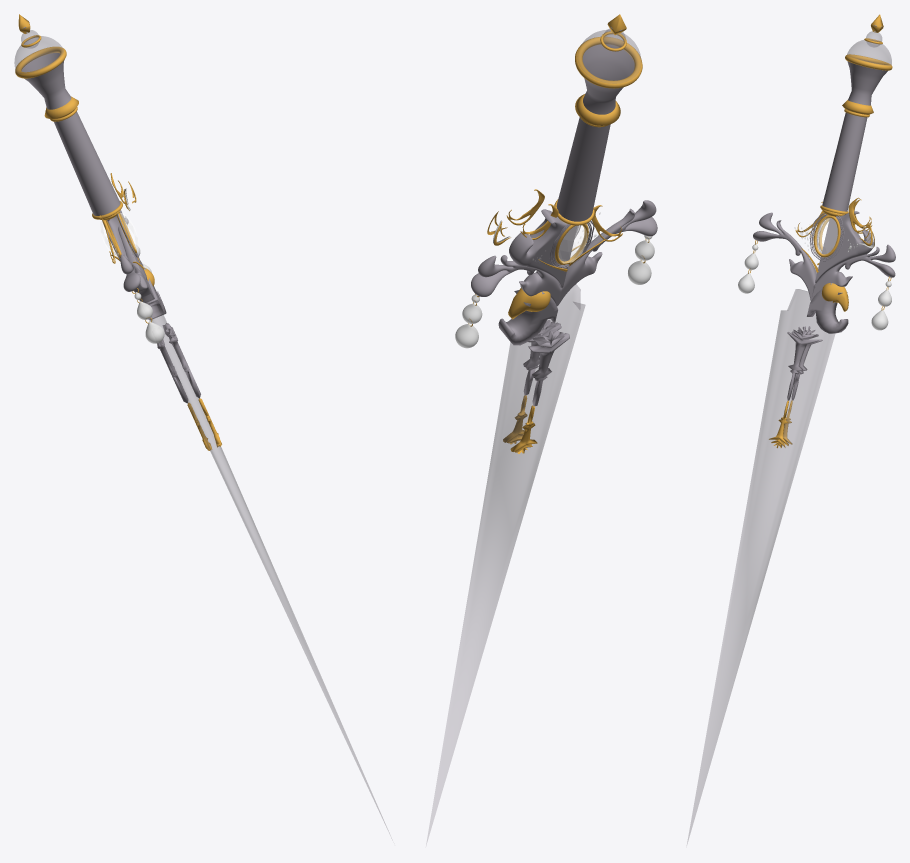
The model's file is sword.glb.
3 views of the same model, side by side, from view 1: azimuth 30°, elevation 25°; view 2: azimuth 150°, elevation 25°; view 3: azimuth 270°, elevation 25° (orthographic). The views are drawn at different scales.
Parts seen in each view (by area): view 1: Plane, Circle.001, Circle.003, Sphere.001, Plane.005, BézierCircle.010; view 2: Plane, Plane.005, Circle.001, Sphere.001, Plane.006, Circle.003, Plane.004, BézierCircle.010, Plane.014, Sphere.005, Sphere.003, Icosphere.001 (+5 smaller); view 3: Plane, Plane.005, Circle.001, Plane.006, Circle.003, Plane.004, Sphere.001, Plane.001, Icosphere, Sphere, Sphere.003, Sphere.005 (+1 smaller).
Boxes of the visible parts, box(x1,y1,x2,y2) form: Plane: box(142, 294, 391, 838); Circle.001: box(54, 111, 120, 215); Circle.003: box(21, 53, 71, 109); Sphere.001: box(14, 36, 63, 73); Plane.005: box(118, 218, 154, 302); BézierCircle.010: box(15, 46, 66, 78); Plane: box(426, 284, 585, 845); Plane.005: box(471, 200, 657, 306); Circle.001: box(556, 117, 610, 221); Sphere.001: box(577, 30, 641, 83); Plane.006: box(509, 209, 577, 287); Circle.003: box(582, 44, 634, 114); Plane.004: box(498, 290, 557, 345); BézierCircle.010: box(575, 37, 642, 88); Plane.014: box(528, 330, 569, 406); Sphere.005: box(455, 294, 482, 348); Sphere.003: box(628, 235, 654, 284); Icosphere.001: box(558, 225, 586, 263); Plane: box(687, 289, 835, 843); Plane.005: box(753, 212, 895, 300); Circle.001: box(822, 112, 867, 211); Plane.006: box(815, 211, 873, 282); Circle.003: box(847, 61, 887, 105); Plane.004: box(807, 283, 848, 333); Sphere.001: box(847, 39, 891, 65); Plane.001: box(787, 326, 818, 400); Icosphere: box(815, 218, 837, 254); Sphere: box(822, 283, 848, 311); Sphere.003: box(738, 243, 758, 293); Sphere.005: box(871, 280, 891, 330).
Bounding box in the file's own units: 2.08 × 5.92 × 1.56.
